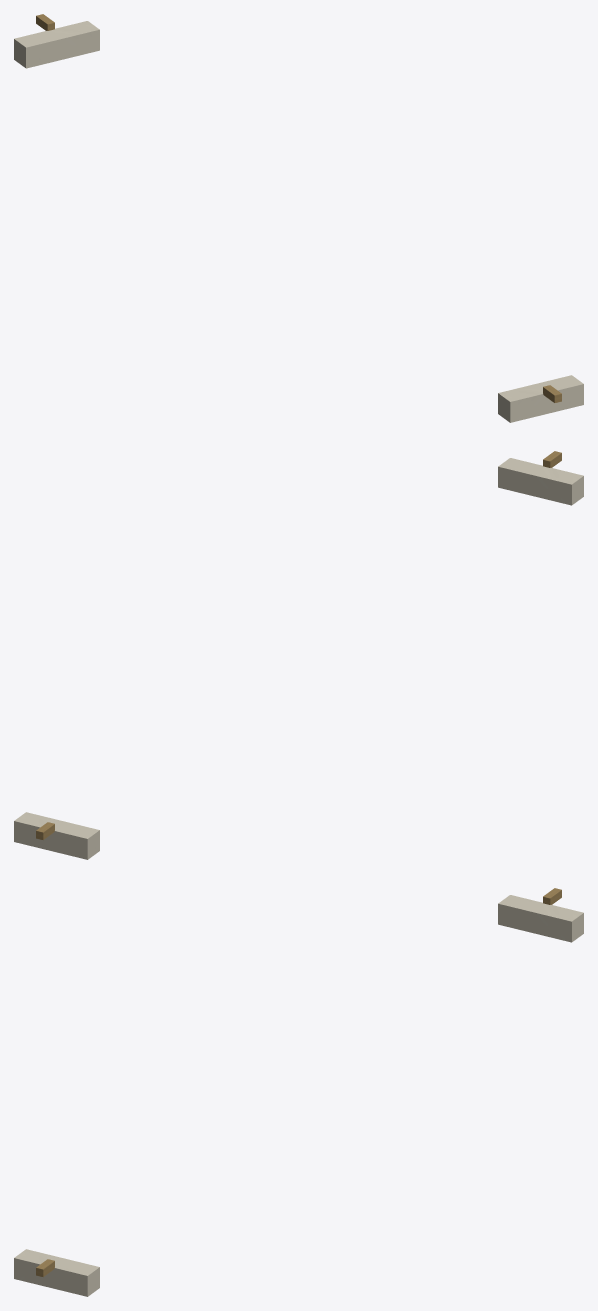
File: maker_foyer_returns_r002.glb
3 views of the same model, one above another, from view 1: azimuth 30°, elevation 25°; view 2: azimuth 150°, elevation 25°; view 3: azimuth 330°, elevation 25° (orthographic).
Visible parts, largest first — view 1: MakerFoyer_-7_housing, MakerFoyer_7_housing; view 2: MakerFoyer_7_housing, MakerFoyer_-7_housing; view 3: MakerFoyer_-7_housing, MakerFoyer_7_housing.
Boxes of the visible parts, x1,y1,x2,y2 form: MakerFoyer_-7_housing: (14,21,99,68); MakerFoyer_7_housing: (498,375,583,422); MakerFoyer_7_housing: (498,458,583,505); MakerFoyer_-7_housing: (14,812,99,859); MakerFoyer_-7_housing: (498,895,583,942); MakerFoyer_7_housing: (14,1249,99,1296).
Size of the model in its own units: 0.7 by 0.275 by 8.53.
2 materials, 2 textured.
